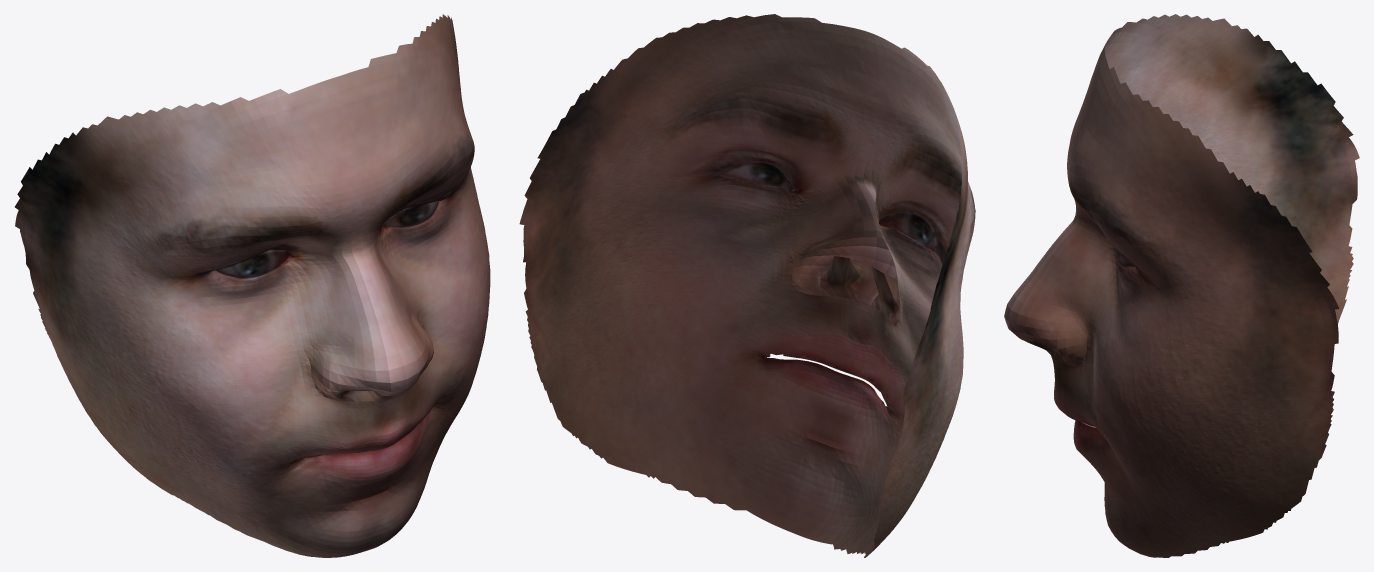
File: mohamed_mm.obj
The picture shows the model from 3 angles, left to right: view 1: azimuth 30°, elevation 25°; view 2: azimuth 150°, elevation 25°; view 3: azimuth 270°, elevation 25°; orthographic projection. The views are drawn at different scales.
Bounding box in the file's own units: 1.49 × 1.75 × 1.17.
